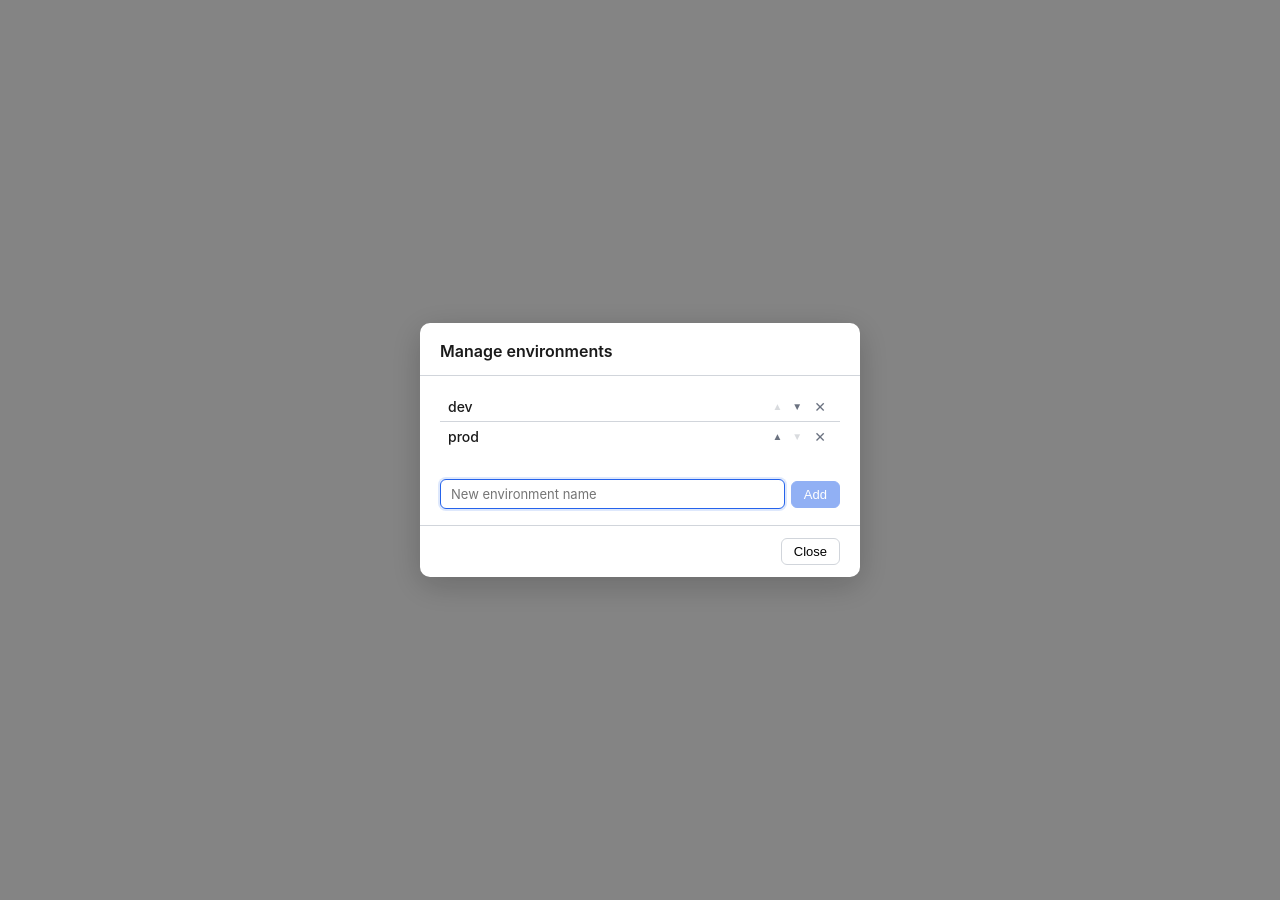
Test: ManageEnvironmentsDialog › Add button disabled when name is duplicate
Type "dev" into the field with placeholder "New environment name" at (612, 494), box x1=440 y1=479 x2=785 y2=509
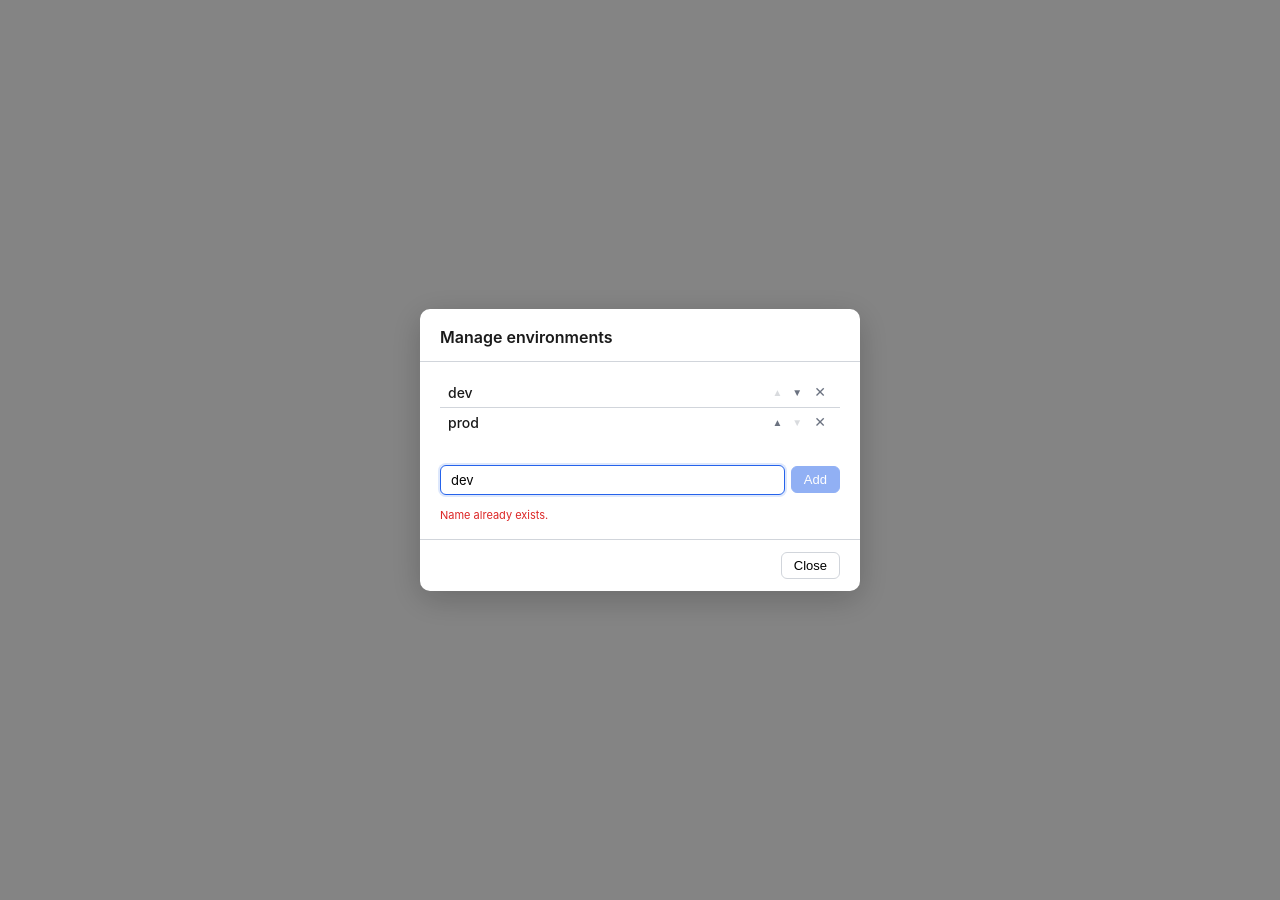
Check: the button "Add" is disabled, box x1=791 y1=466 x2=840 y2=493
Check: the text "Name already exists." is shown, box x1=440 y1=508 x2=548 y2=522
